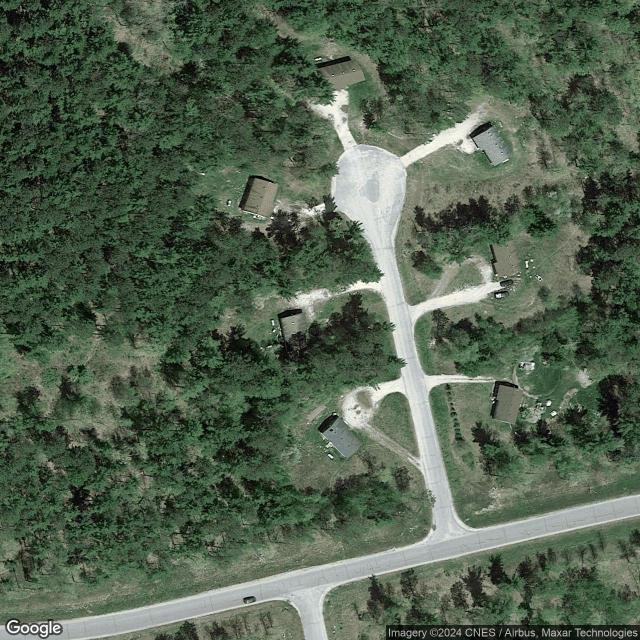Propane: (327, 453, 335, 461), (314, 56, 322, 62), (270, 318, 276, 326), (525, 259, 529, 270), (227, 199, 232, 207), (502, 158, 509, 163)
